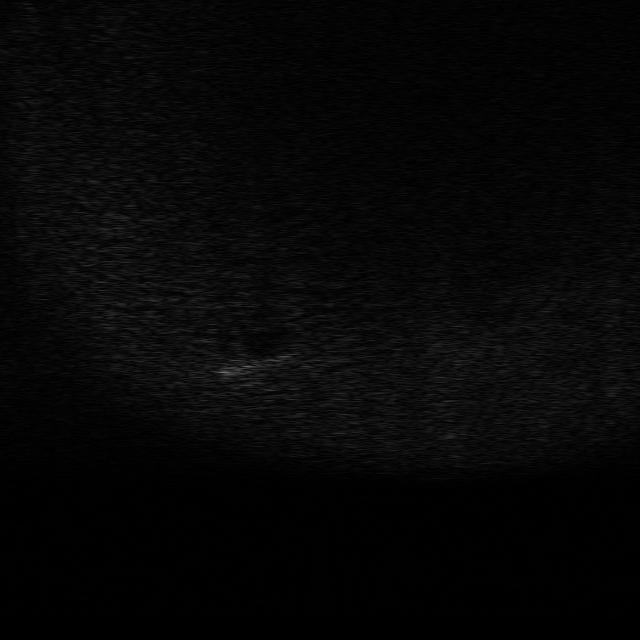plane: (211, 342, 299, 387)
